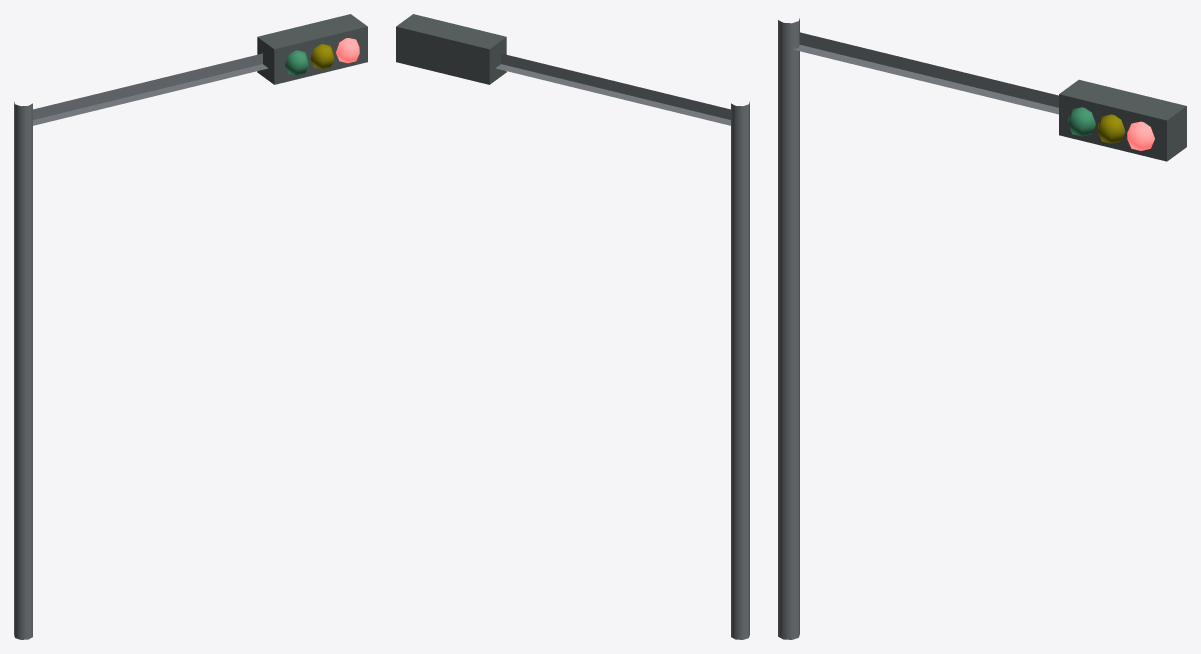
The model's file is traffic_light_red_lit.glb.
The picture shows the model from 3 angles, left to right: view 1: azimuth 30°, elevation 25°; view 2: azimuth 150°, elevation 25°; view 3: azimuth 330°, elevation 25°; orthographic projection. The views are drawn at different scales.
Parts seen in each view (by area): view 1: traffic_light_red_lit; view 2: traffic_light_red_lit; view 3: traffic_light_red_lit.
Boxes of the visible parts, x1,y1,x2,y2 form: traffic_light_red_lit: (14,14,367,639); traffic_light_red_lit: (396,14,749,639); traffic_light_red_lit: (778,18,1186,639).
Bounding box in the file's own units: 4.05 × 6 × 0.4962.
